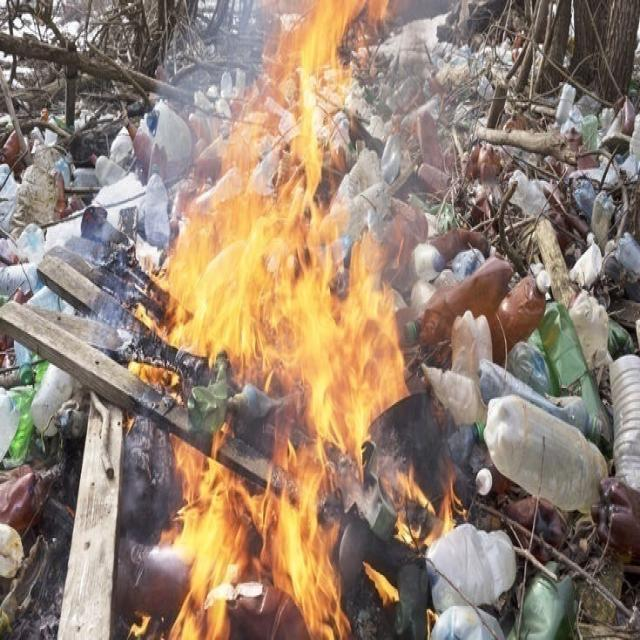Fire: (144, 0, 462, 640), (361, 421, 469, 628)
